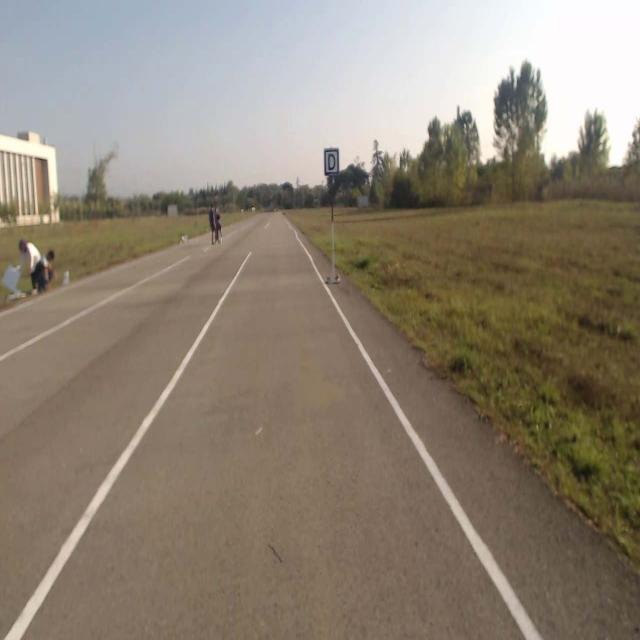durak: (324, 148, 339, 175)
